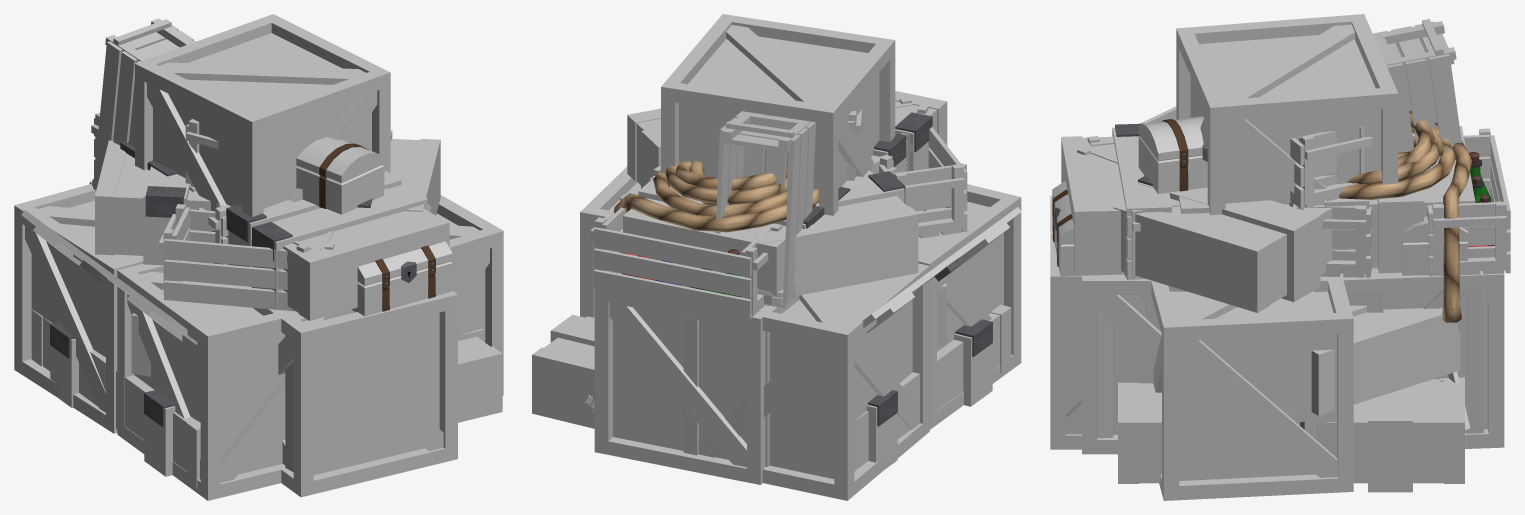
Rendered from crates.fbx.
3 views of the same model, side by side, from view 1: azimuth 30°, elevation 25°; view 2: azimuth 150°, elevation 25°; view 3: azimuth 270°, elevation 25° (orthographic). The views are drawn at different scales.
Visible parts, largest first — view 1: crate.005, crate.012, crate.006, crate.007, crate flat.005, crate flat.004, handcrate.004, crate flat.001, crate.008, handcrate.003, smallchest.002, smallchest.003 (+11 smaller); view 2: crate.007, crate.005, crate.002, crate flat.004, handcrate.001, crate.006, handcrate.003, LOD_012_Crate, crate flat.001, crate flat.003, handcrate.004, crate flat.008 (+8 smaller); view 3: crate.008, crate.005, crate flat.004, crate flat.003, crate flat.002, crate flat.005, crate.001, crate.002, handcrate.003, LOD_012_Crate, handcrate.001, crate.012 (+11 smaller).
Part boxes in pixels (<box>): crate.005: <box>135,14,390,216</box>; crate.012: <box>253,291,457,497</box>; crate.006: <box>117,264,285,500</box>; crate.007: <box>14,183,143,433</box>; crate flat.005: <box>212,184,449,320</box>; crate flat.004: <box>95,130,440,265</box>; handcrate.004: <box>159,204,334,311</box>; crate flat.001: <box>31,309,200,488</box>; crate.008: <box>436,195,503,395</box>; handcrate.003: <box>92,18,196,190</box>; smallchest.002: <box>296,137,384,214</box>; smallchest.003: <box>351,241,452,316</box>; crate.007: <box>683,263,929,500</box>; crate.005: <box>661,14,895,215</box>; crate.002: <box>594,289,773,484</box>; crate flat.004: <box>627,108,918,295</box>; handcrate.001: <box>590,194,782,319</box>; crate.006: <box>918,184,1021,429</box>; handcrate.003: <box>713,111,815,307</box>; LOD_012_Crate: <box>614,160,819,232</box>; crate flat.001: <box>854,304,1011,472</box>; crate flat.003: <box>532,314,594,428</box>; handcrate.004: <box>879,97,967,238</box>; crate flat.008: <box>623,149,905,304</box>; crate.008: <box>1151,277,1353,500</box>; crate.005: <box>1176,14,1398,268</box>; crate flat.004: <box>1113,132,1461,312</box>; crate flat.003: <box>1118,377,1464,492</box>; crate flat.002: <box>1311,305,1460,415</box>; crate flat.005: <box>1061,127,1377,279</box>; crate.001: <box>1082,276,1186,454</box>; crate.002: <box>1314,273,1504,448</box>; handcrate.003: <box>1373,19,1461,159</box>; LOD_012_Crate: <box>1338,110,1472,322</box>; handcrate.001: <box>1427,128,1510,276</box>; crate.012: <box>1050,196,1125,449</box>.
Size of the model in its own units: 191 by 159 by 181.
